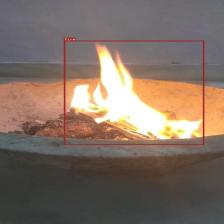fire: (64, 40, 204, 145)
